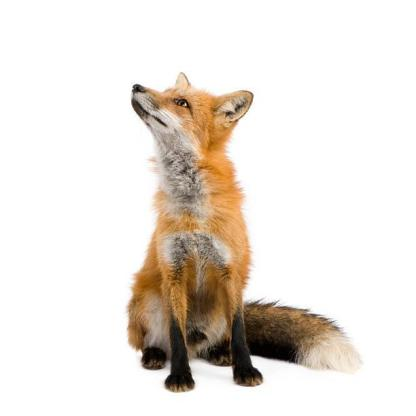raposa: (89, 53, 377, 402)
